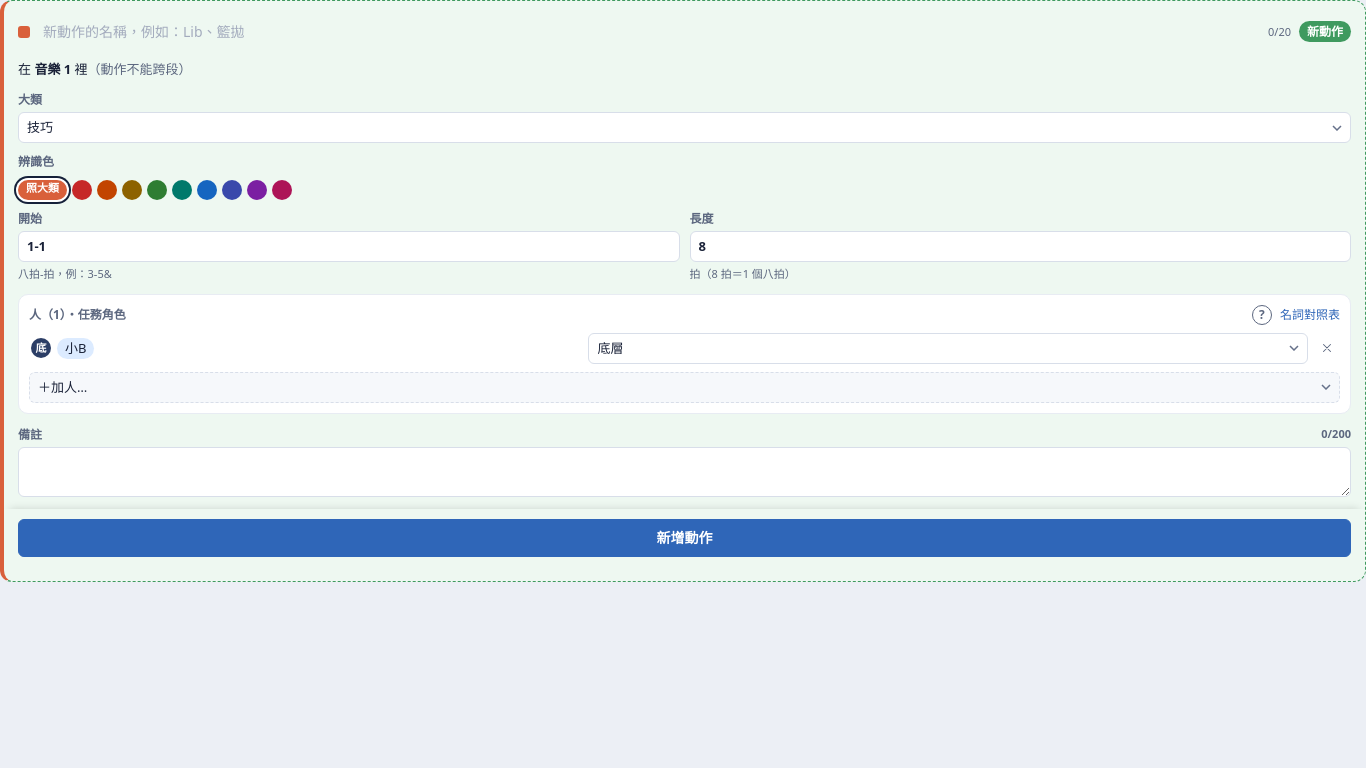
Test case: 動作表單：新增 › 新增被擋下後，改了表單（例如改開始）原因就收掉
Replace the text in the field named "開始" with "9-9": (349, 246) [18, 231, 680, 262]
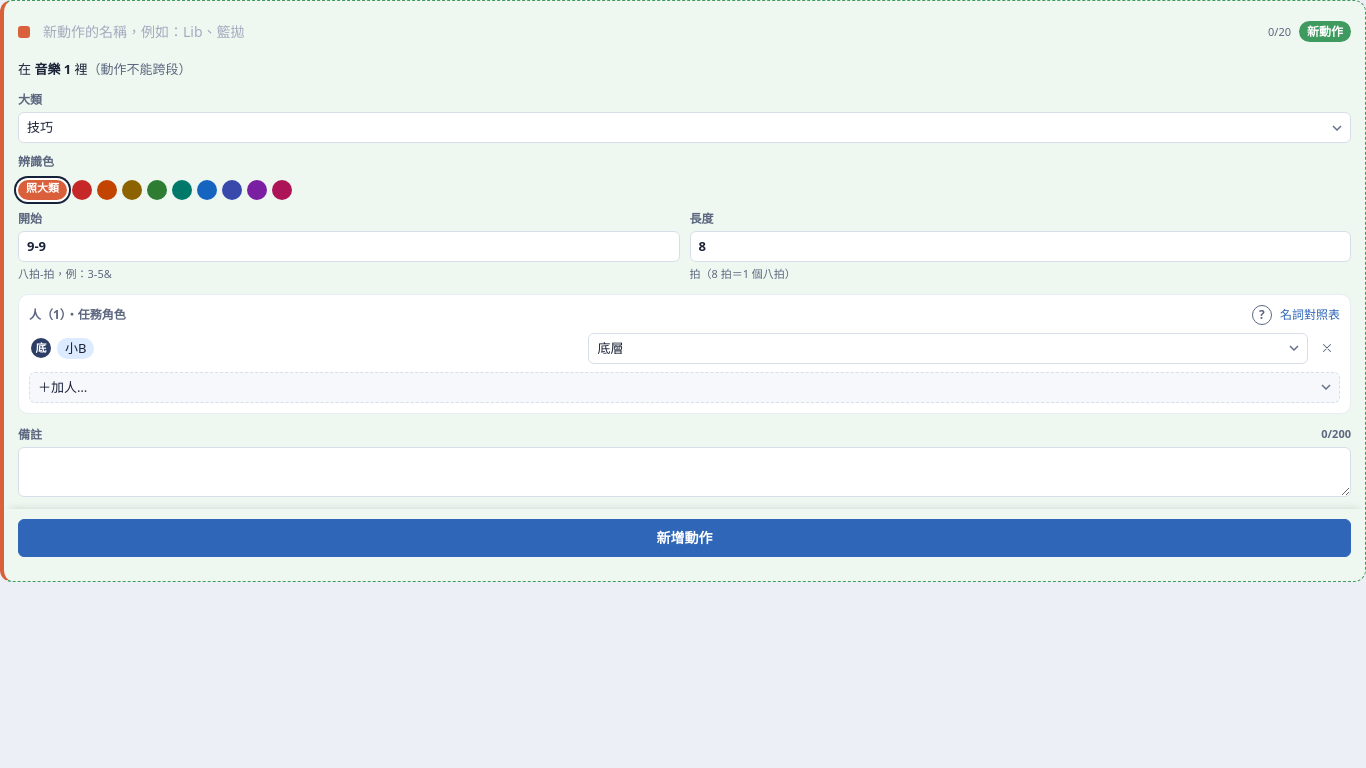
Click the button "新增動作": click(684, 538) [18, 519, 1351, 557]
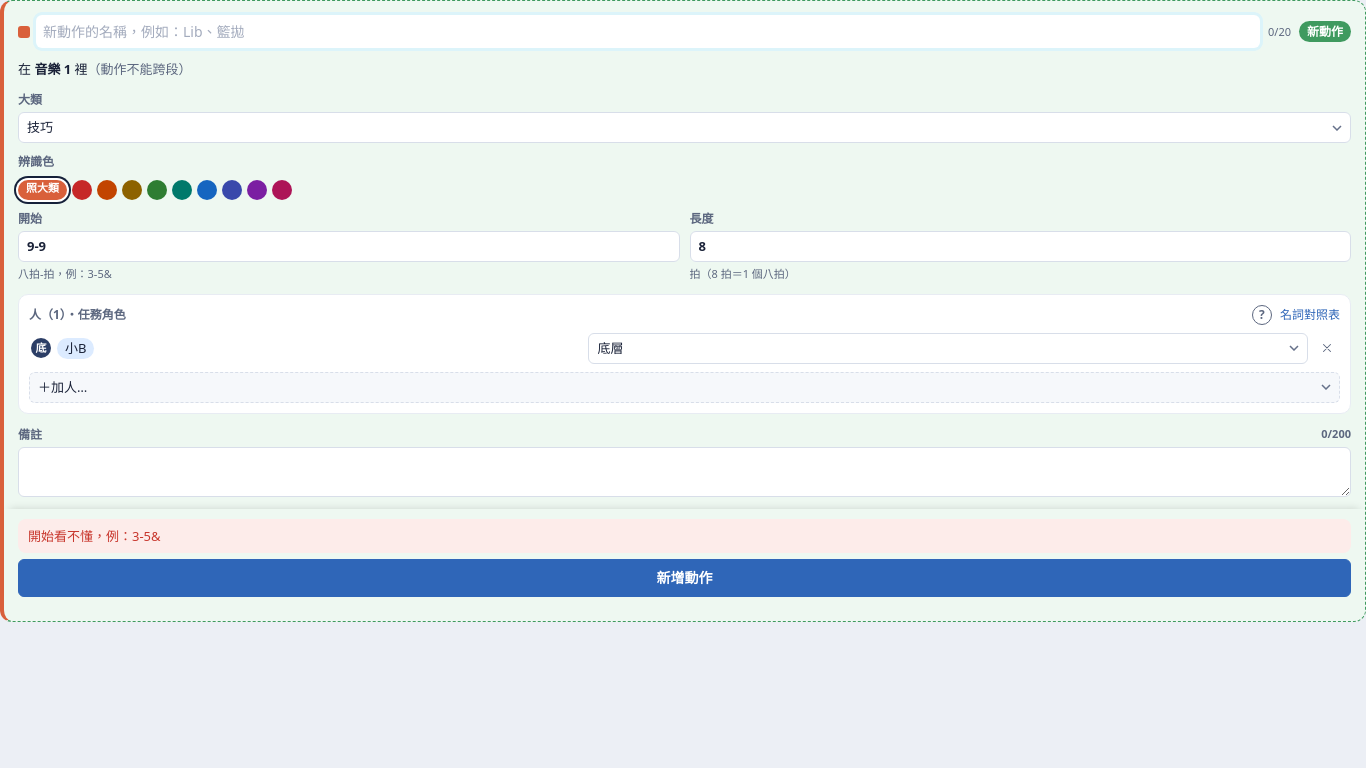
Now the message "開始看不懂，例：3-5&" is shown, box [18, 519, 1351, 553]
Replace the text in the field named "開始" with "1-1": (349, 246) [18, 231, 680, 262]
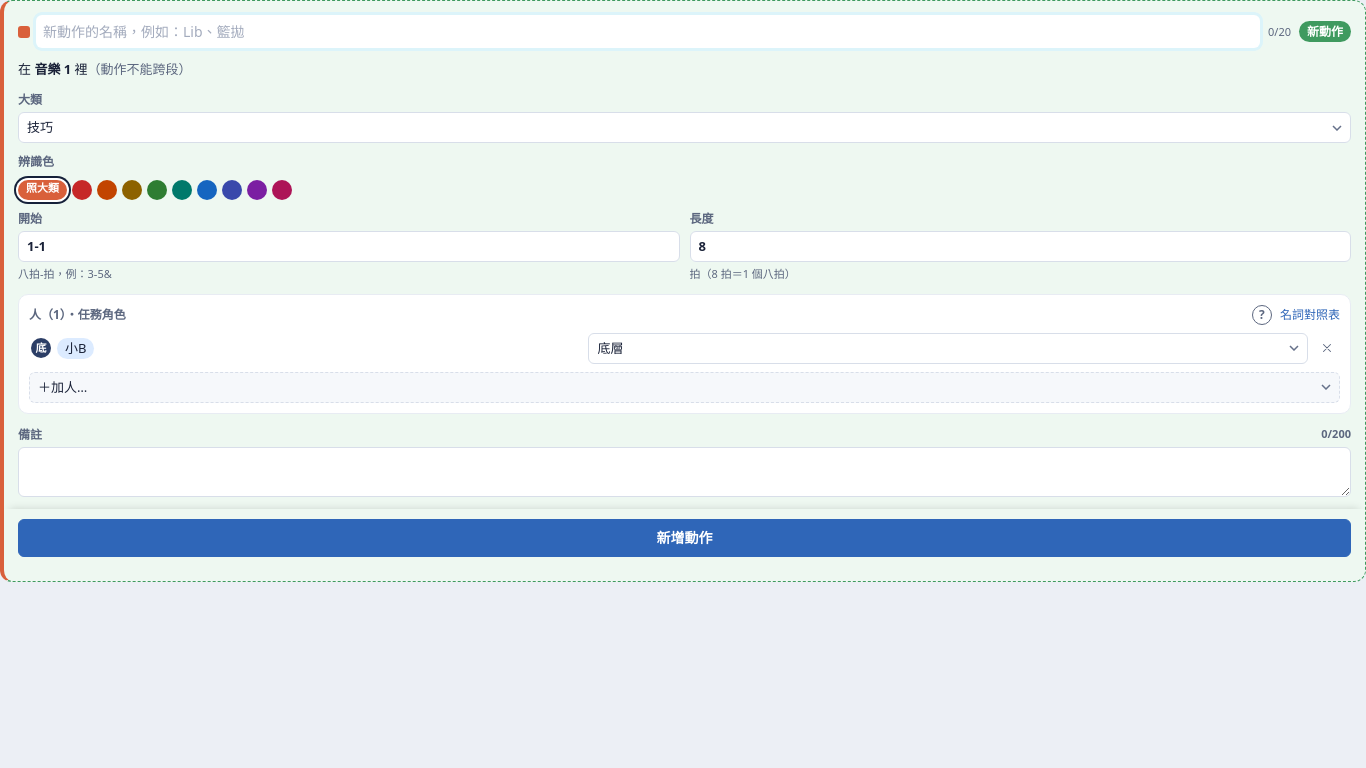
Now the message "開始看不懂，例：3-5&" is gone
